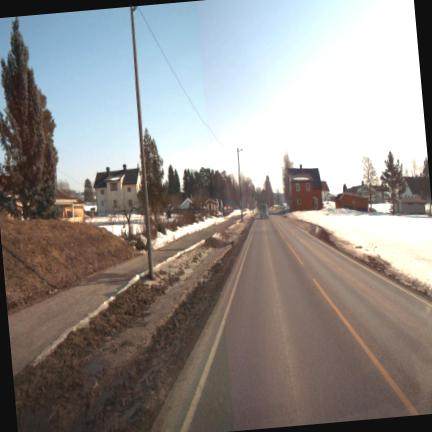Road: (152, 215, 431, 431)
